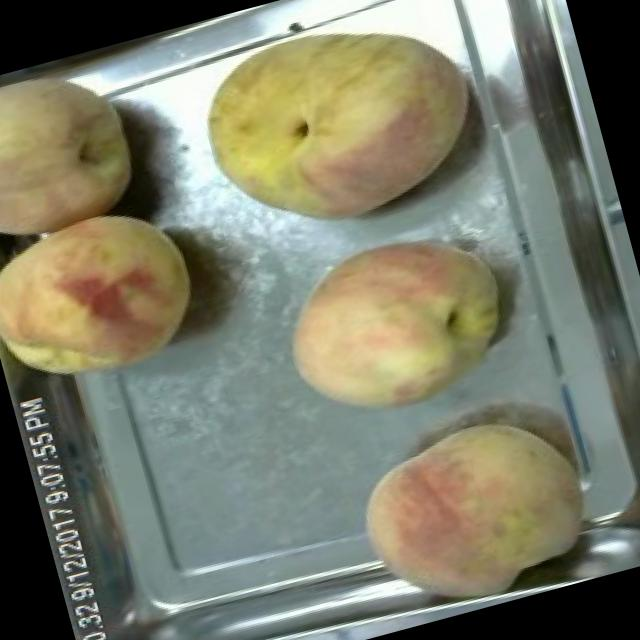Fruit: (166, 0, 503, 265), (334, 390, 612, 628), (258, 208, 530, 442), (0, 193, 218, 410), (0, 42, 164, 259)
